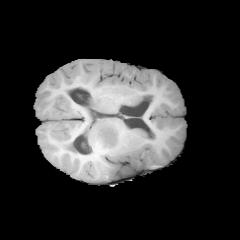glioma: (93, 120, 121, 150)
